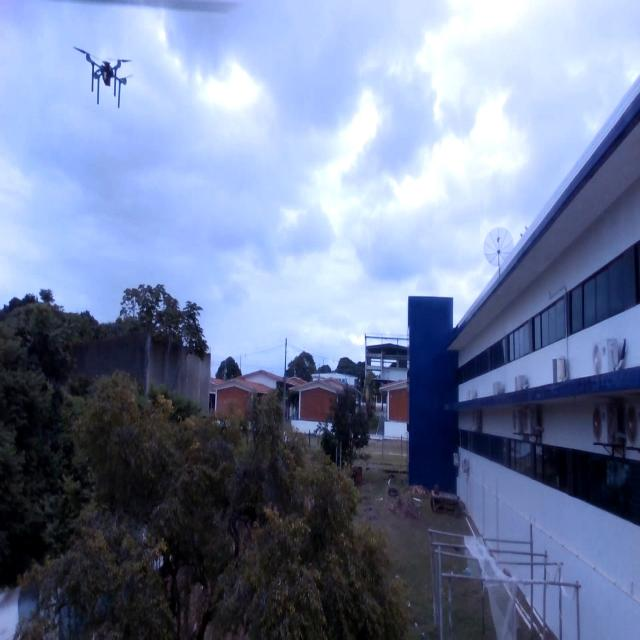-uav-: (69, 34, 140, 123)
